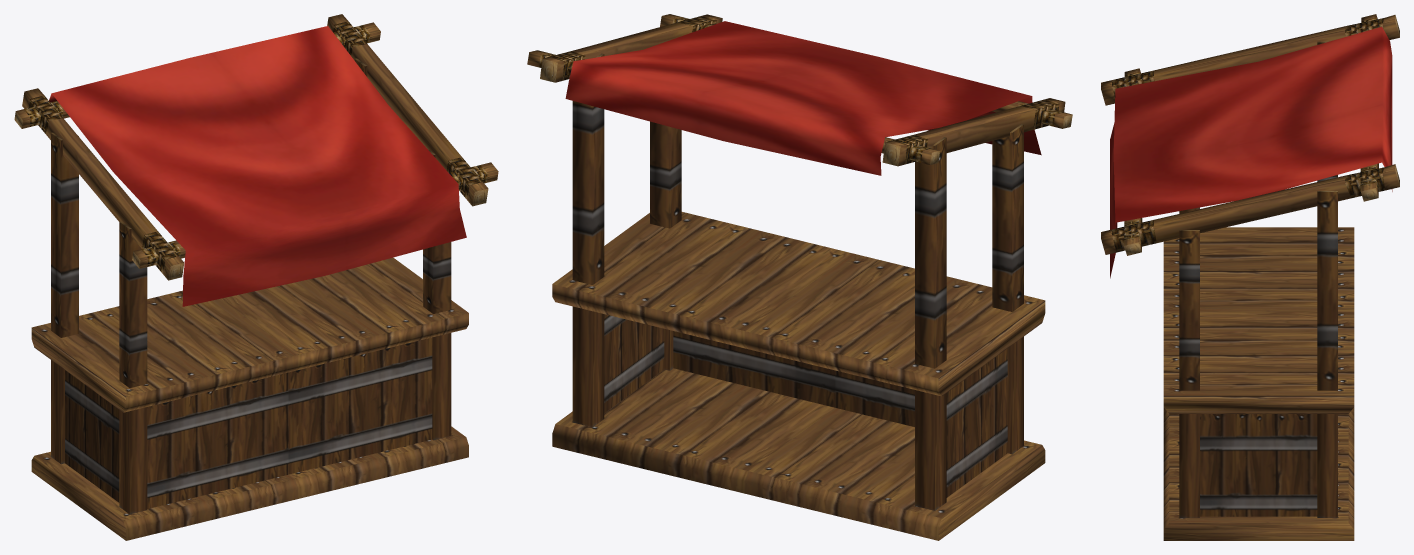
Rendered from MarketPlace02B.fbx.
3 renders of one model, left to right at view 1: azimuth 30°, elevation 25°; view 2: azimuth 150°, elevation 25°; view 3: azimuth 270°, elevation 25°, orthographic. The views are drawn at different scales.
Parts seen in each view (by area): view 1: MarketPlace02B; view 2: MarketPlace02B; view 3: MarketPlace02B.
Boxes of the visible parts, box(x1,y1,x2,y2) form: MarketPlace02B: box(14, 14, 498, 540); MarketPlace02B: box(527, 14, 1072, 540); MarketPlace02B: box(1101, 14, 1399, 540).
Bounding box in the file's own units: 5.97 × 5.77 × 4.29.
